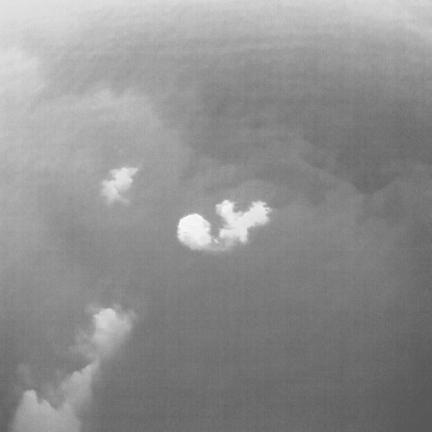flukeprints: (12, 391, 79, 431), (216, 200, 271, 246), (61, 359, 99, 413), (92, 308, 131, 349), (101, 166, 138, 203), (178, 214, 211, 249)
